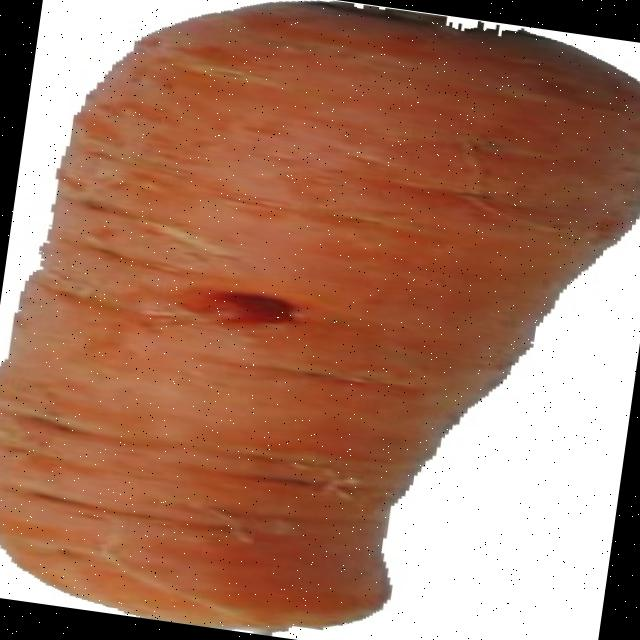carrot: (0, 2, 640, 632)
